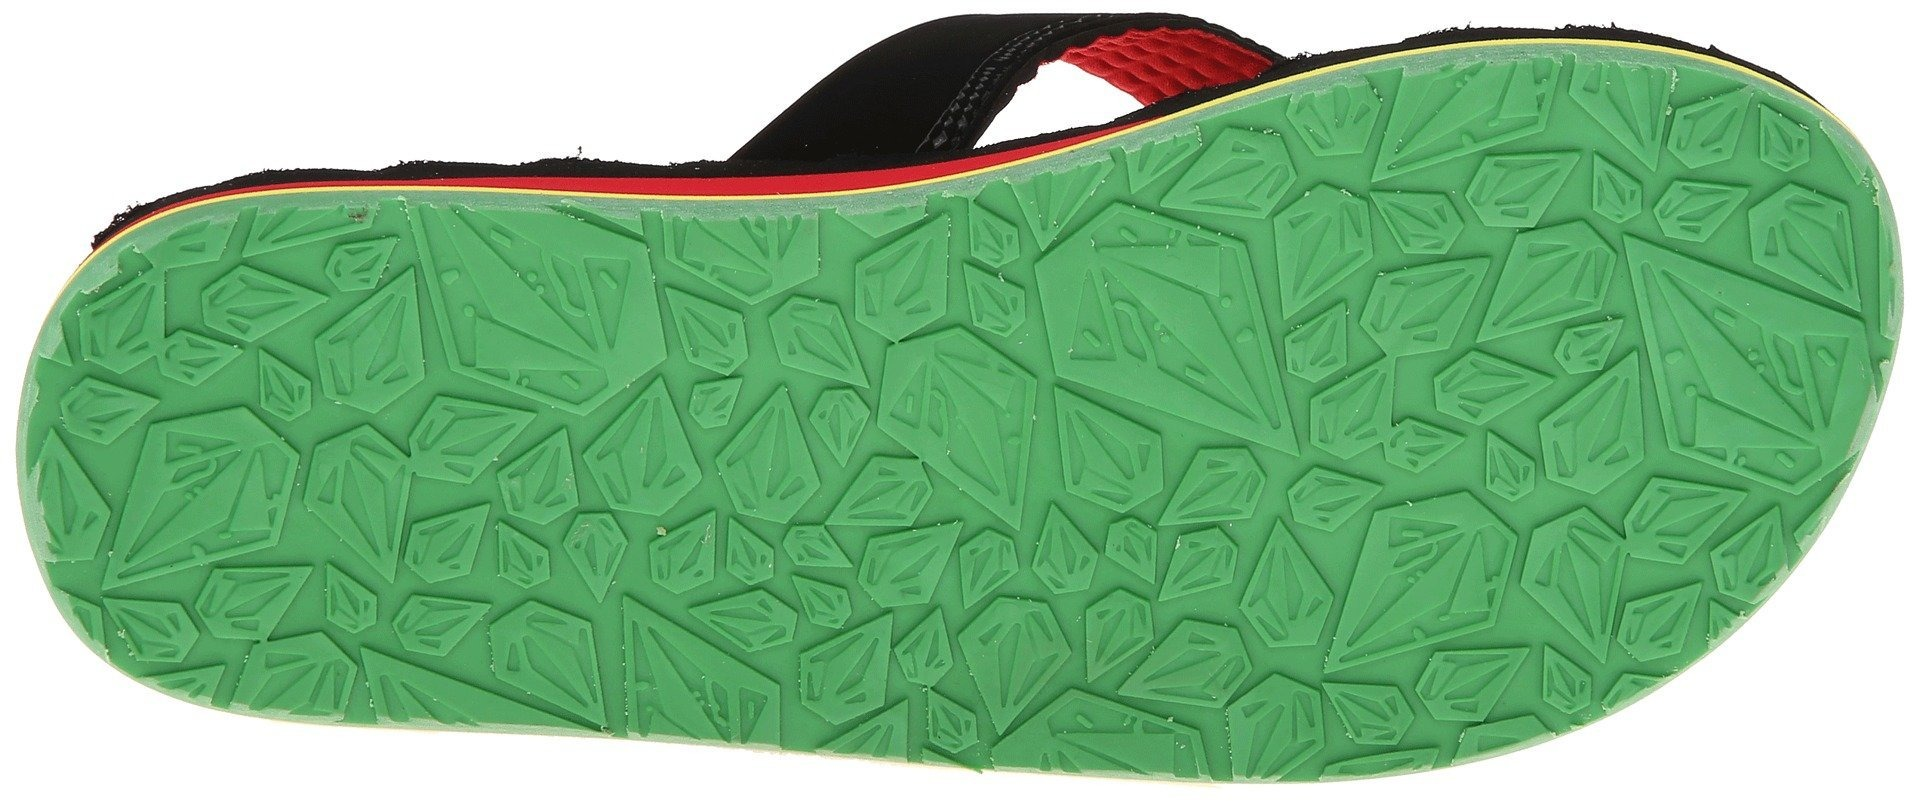polygon: (640, 252, 1473, 703), (126, 252, 602, 683), (1556, 117, 1864, 400)
quad: (640, 252, 1473, 703), (126, 252, 602, 683), (1556, 117, 1864, 400)
